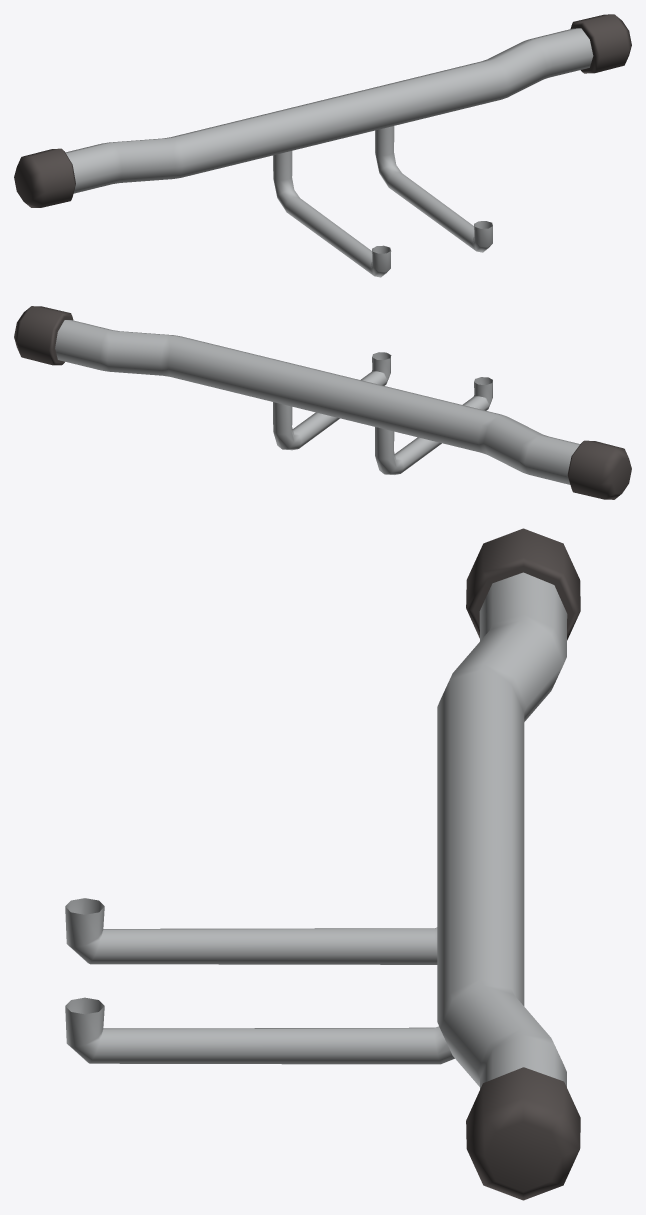
Rendered from Car_13_RearBumper_Simple.fbx.
The picture shows the model from 3 angles, top to bottom: view 1: azimuth 30°, elevation 25°; view 2: azimuth 150°, elevation 25°; view 3: azimuth 270°, elevation 25°; orthographic projection. The views are drawn at different scales.
Visible parts, largest first — view 1: Car_13_RearBumper_Simple; view 2: Car_13_RearBumper_Simple; view 3: Car_13_RearBumper_Simple.
Boxes of the visible parts, x1,y1,x2,y2 form: Car_13_RearBumper_Simple: [14, 14, 631, 277]; Car_13_RearBumper_Simple: [14, 306, 631, 499]; Car_13_RearBumper_Simple: [65, 528, 580, 1200].
Bounding box in the file's own units: 217 × 80.74 × 34.85.
